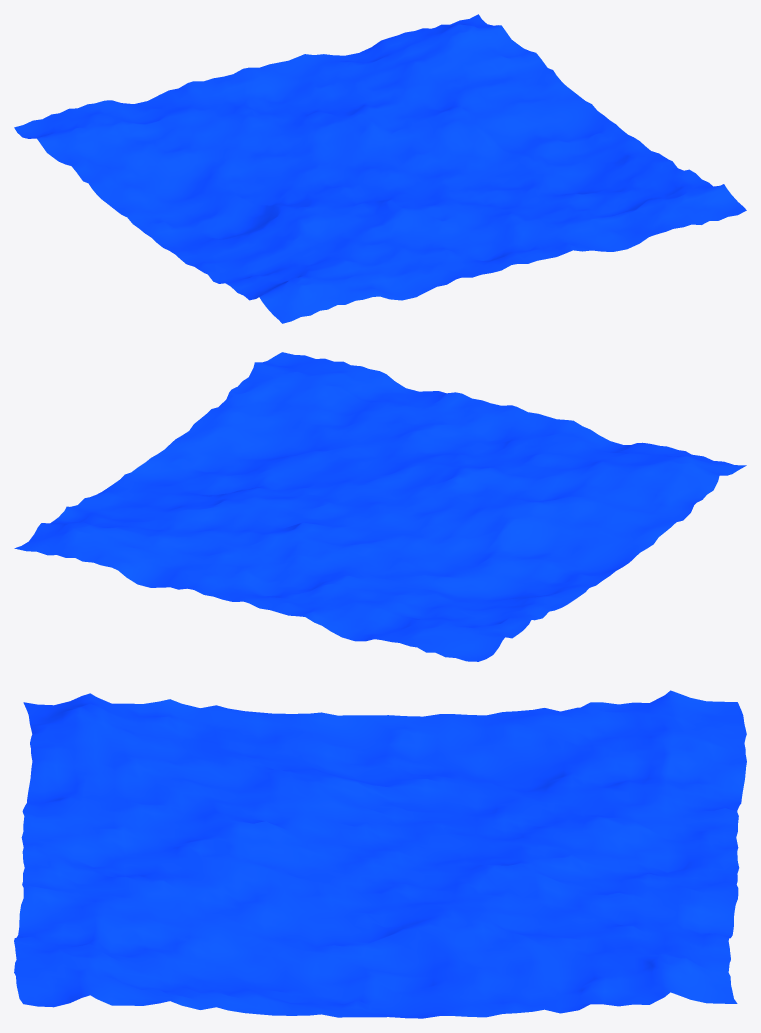
File: ocean_model.glb
3 renders of one model, top to bottom at view 1: azimuth 30°, elevation 25°; view 2: azimuth 150°, elevation 25°; view 3: azimuth 270°, elevation 25°, orthographic. The views are drawn at different scales.
Visible parts, largest first — view 1: Cube_0; view 2: Cube_0; view 3: Cube_0.
Boxes of the visible parts, x1=… form: Cube_0: x1=14, y1=14, x2=746, y2=323; Cube_0: x1=14, y1=352, x2=746, y2=661; Cube_0: x1=14, y1=690, x2=746, y2=1018.
Size of the model in its own units: 105 by 7.35 by 106.
